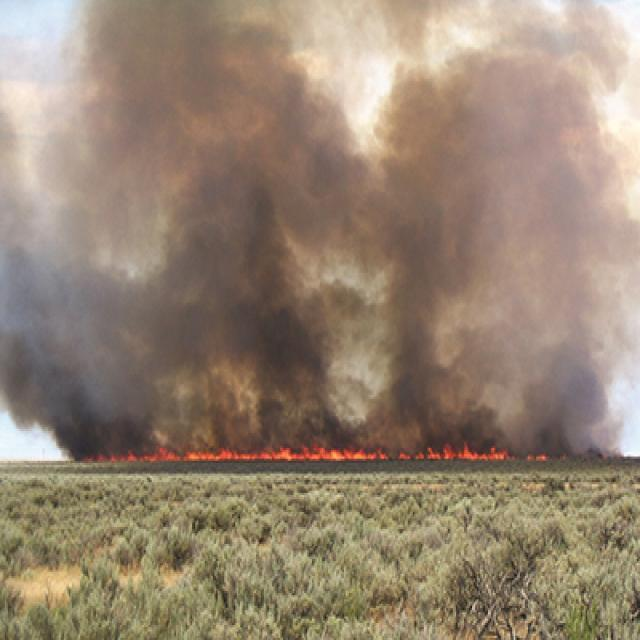Fire: (70, 441, 557, 464)
Smoke: (0, 0, 640, 457)
